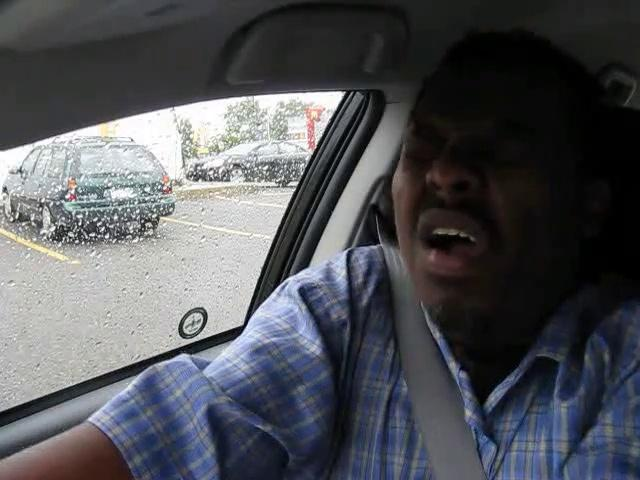close_eyeL: (386, 128, 456, 180)
close_eyeR: (462, 129, 543, 184)
yawn: (400, 207, 497, 278)
